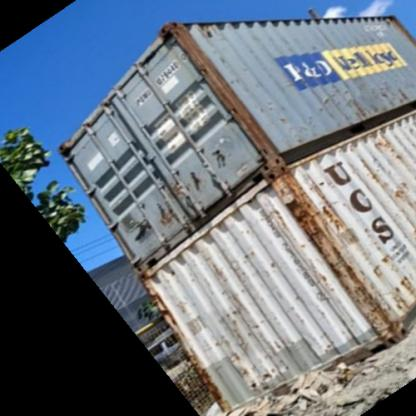Damage: (263, 180, 415, 334), (212, 304, 294, 394), (317, 82, 372, 122), (274, 107, 306, 145), (201, 247, 230, 288), (375, 77, 412, 105), (373, 133, 403, 161), (355, 158, 380, 180), (173, 291, 194, 313), (239, 247, 261, 263), (167, 268, 180, 279)
